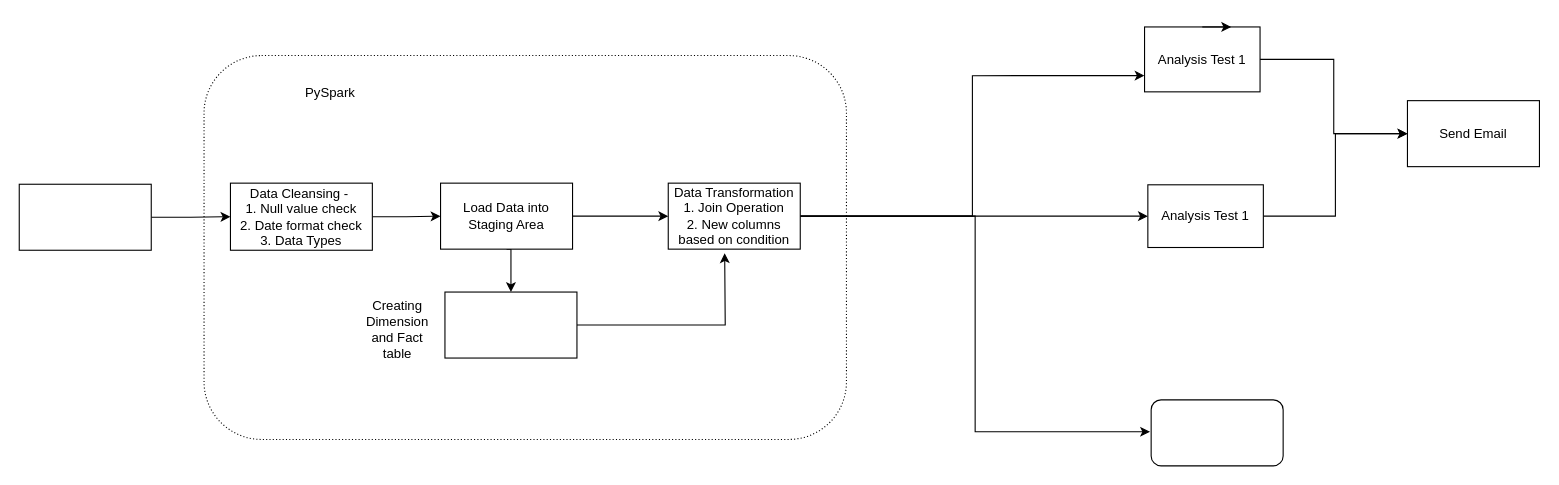
This 1559x485 diagram has some shape labels left out. The centre of each missing label's shape, as x and y in pixels:
"Load into SQL Data warehouse" goes at point 510,324.
"Power Bi for Data visualization" goes at point 1216,432.
"Raw CSV files" goes at point 84,216.
